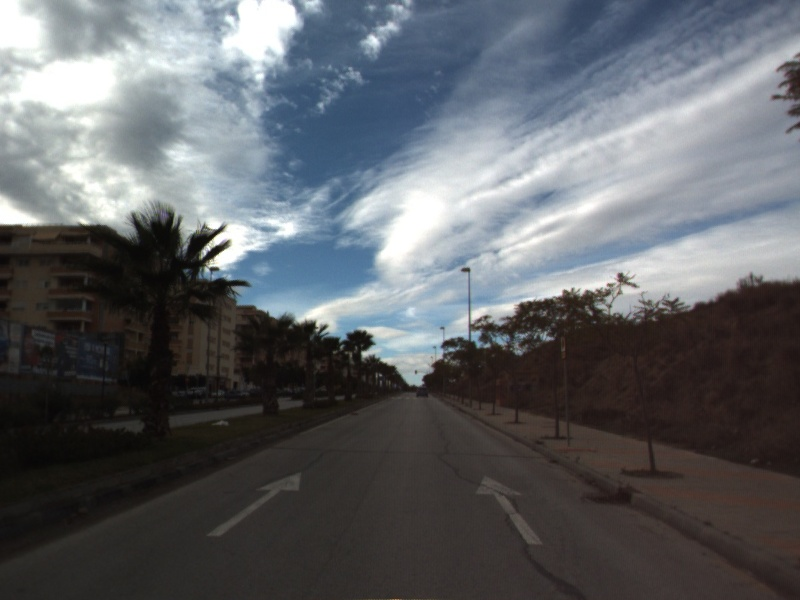STRAIGHT: (204, 470, 303, 538), (473, 473, 545, 547)
